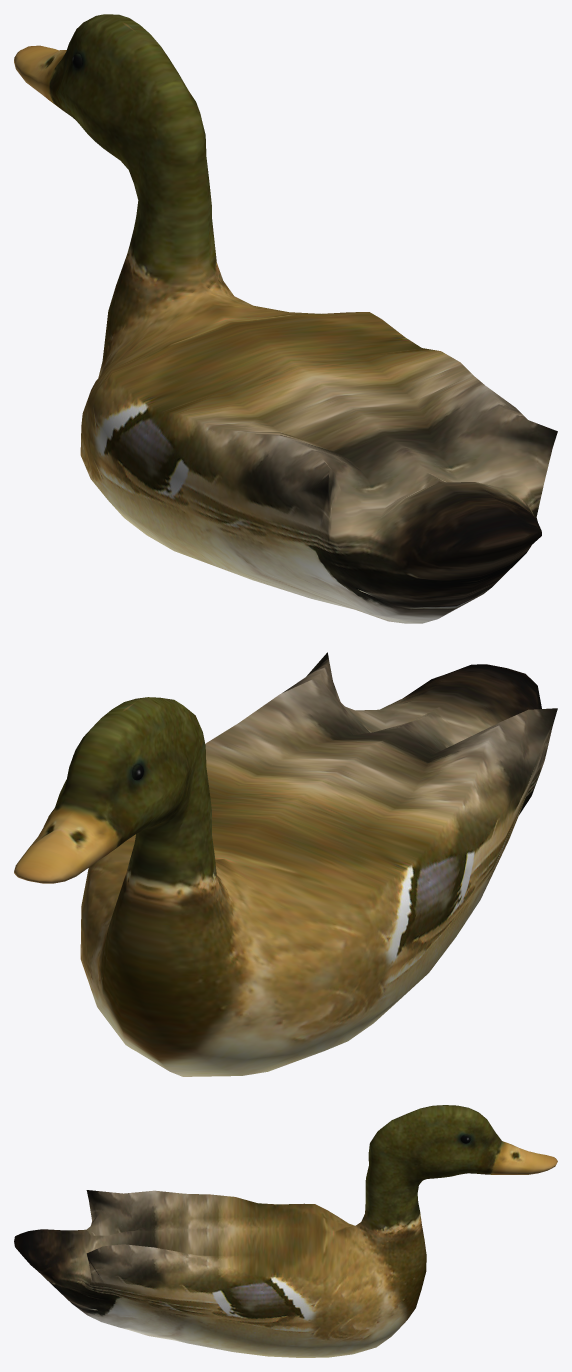
The model's file is Duck.fbx.
3 views of the same model, one above another, from view 1: azimuth 30°, elevation 25°; view 2: azimuth 150°, elevation 25°; view 3: azimuth 270°, elevation 25° (orthographic). The views are drawn at different scales.
Parts seen in each view (by area): view 1: Duck; view 2: Duck; view 3: Duck.
Part boxes in pixels (bbox=[...]): Duck: bbox=[14, 14, 557, 623]; Duck: bbox=[14, 652, 557, 1076]; Duck: bbox=[14, 1105, 557, 1357].
Size of the model in its own units: 21.9 by 30.08 by 61.56.
1 material, 1 textured.
